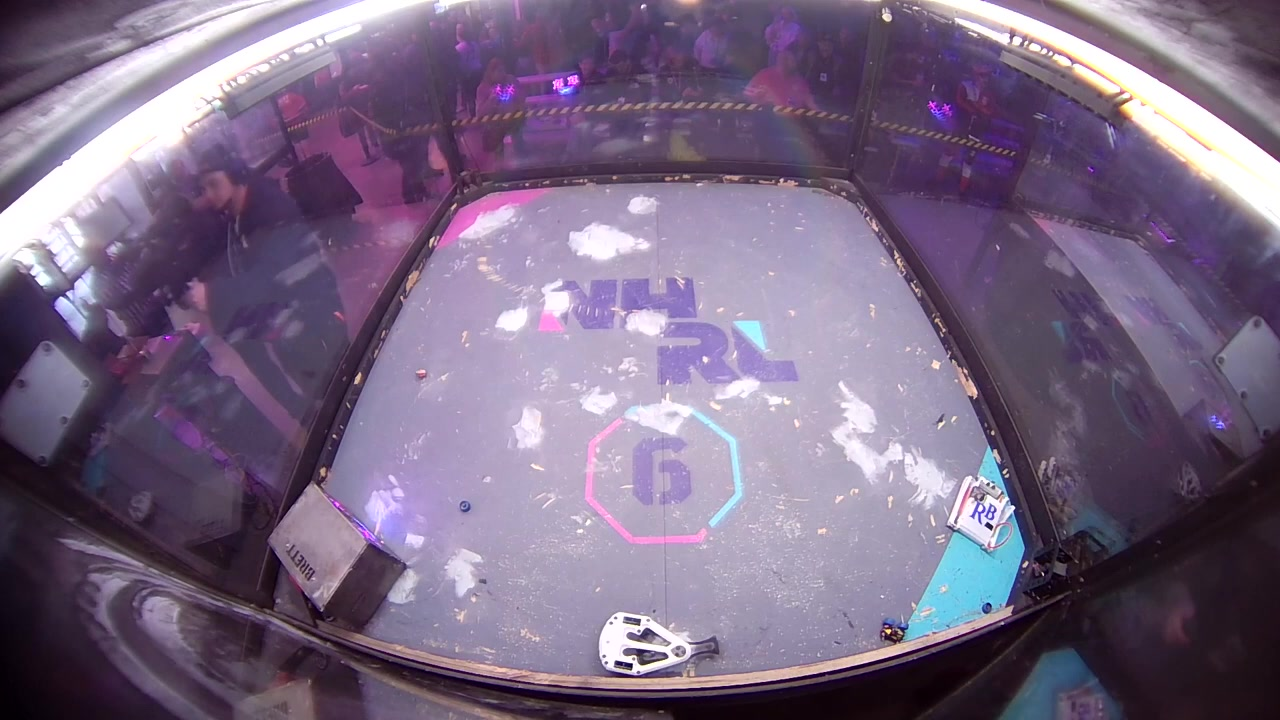combatbot: (597, 610, 695, 678), (945, 474, 1015, 558)
debris: (880, 620, 908, 643), (413, 369, 429, 380)
housebot: (266, 476, 412, 631)
wheel: (461, 500, 474, 513), (984, 602, 993, 614)
